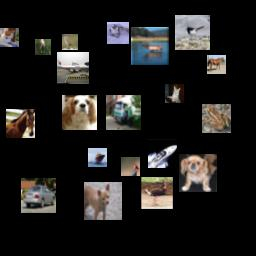airplane: (57, 52, 89, 84)
automobile: (21, 178, 56, 213)
bird: (175, 15, 210, 50), (141, 177, 173, 209), (121, 157, 140, 176), (62, 34, 78, 50)
cat: (107, 22, 129, 44), (165, 84, 184, 103), (0, 28, 19, 47)
deer: (131, 27, 169, 65)
dog: (84, 182, 122, 220), (179, 154, 217, 192), (62, 95, 97, 130), (35, 39, 51, 55)
frog: (202, 104, 231, 133)
ship: (148, 139, 177, 168), (88, 148, 107, 167)
truck: (106, 95, 141, 130)
